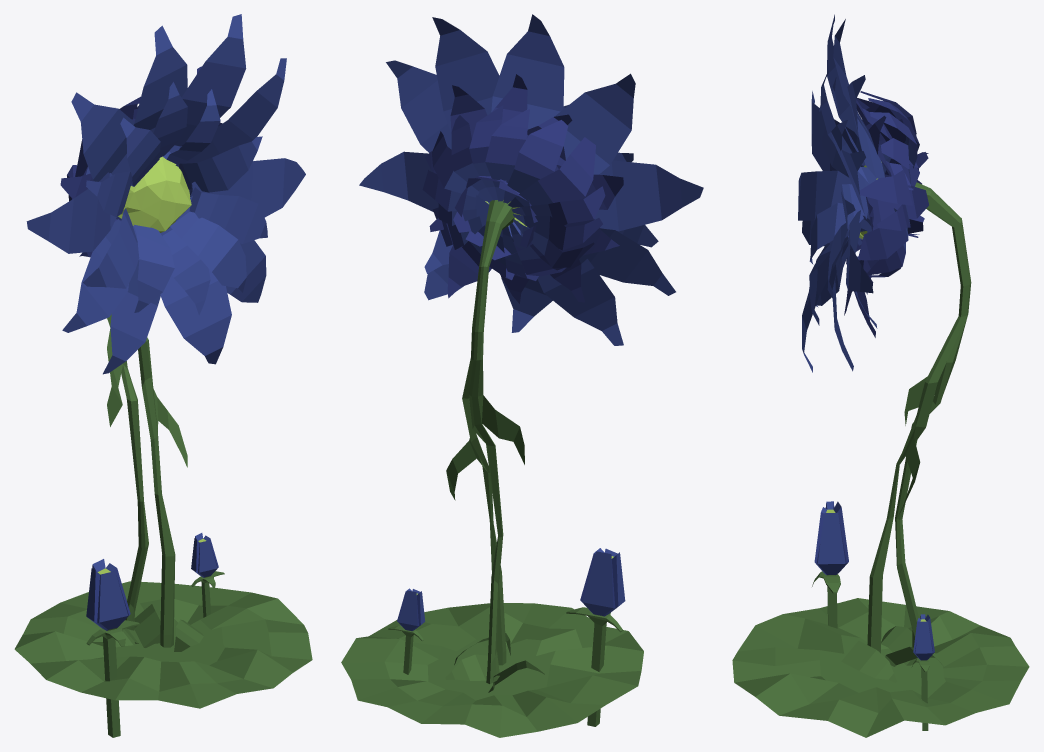
File: MBJ_PlantPack01_Plant02v001.fbx
3 renders of one model, left to right at view 1: azimuth 30°, elevation 25°; view 2: azimuth 150°, elevation 25°; view 3: azimuth 270°, elevation 25°, orthographic.
Visible parts, largest first — view 1: Flower02Plant.001; view 2: Flower02Plant.001; view 3: Flower02Plant.001.
Boxes of the visible parts, x1,y1,x2,y2 form: Flower02Plant.001: (14, 14, 312, 737); Flower02Plant.001: (341, 14, 703, 737); Flower02Plant.001: (732, 14, 1029, 737).
Bounding box in the file's own units: 52.81 × 113 × 43.73.
